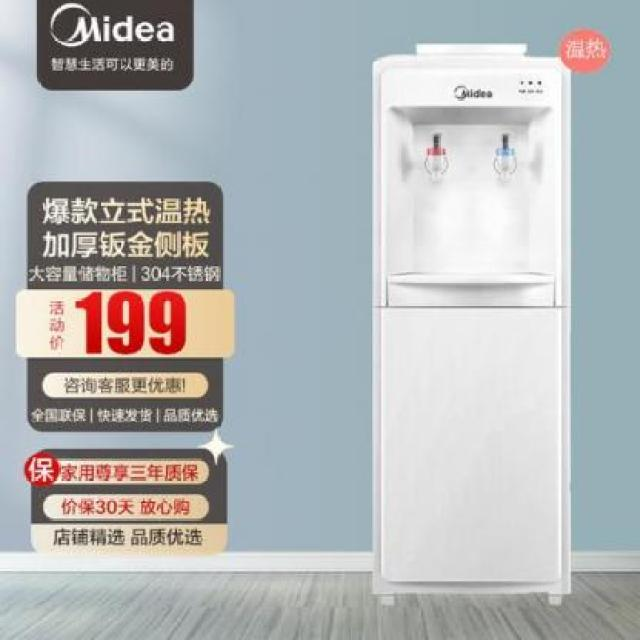cooler: (370, 41, 574, 614)
